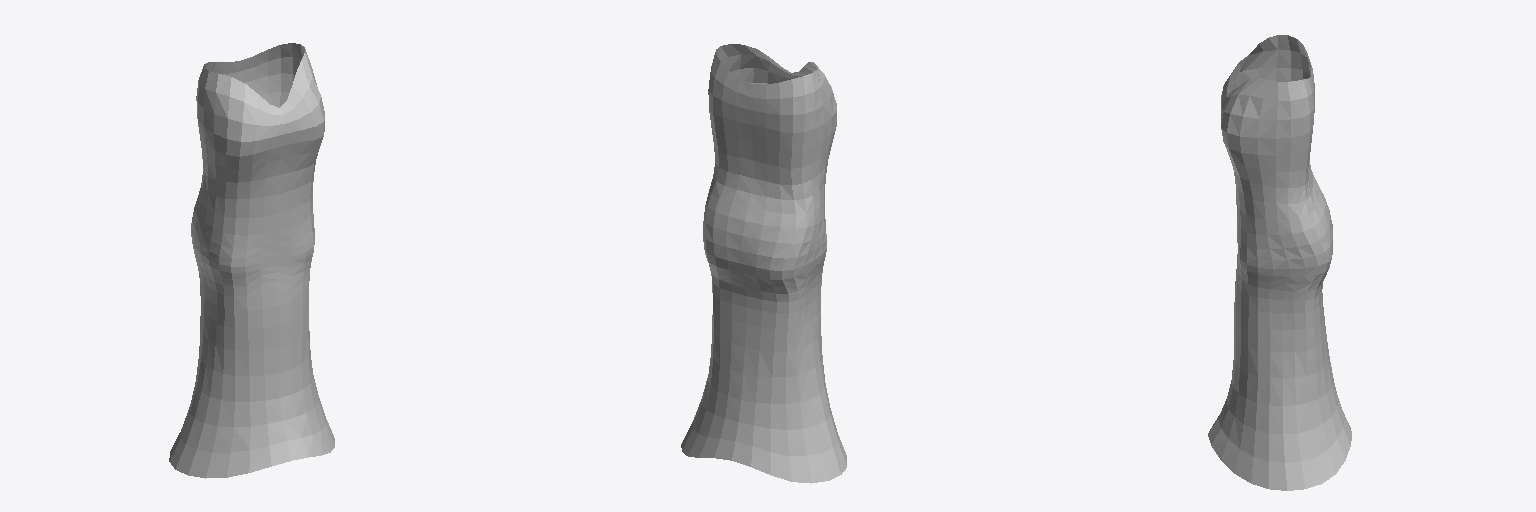
File: dress.obj
3 renders of one model, left to right at view 1: azimuth 30°, elevation 25°; view 2: azimuth 150°, elevation 25°; view 3: azimuth 270°, elevation 25°, orthographic.
Parts seen in each view (by area): view 1: loftedSurface1; view 2: loftedSurface1; view 3: loftedSurface1.
Part boxes in pixels (left/top/right/bottom): loftedSurface1: left=169, top=43, right=334, bottom=478; loftedSurface1: left=681, top=44, right=846, bottom=483; loftedSurface1: left=1208, top=35, right=1351, bottom=490.
Bounding box in the file's own units: 4.48 × 10.98 × 3.65.